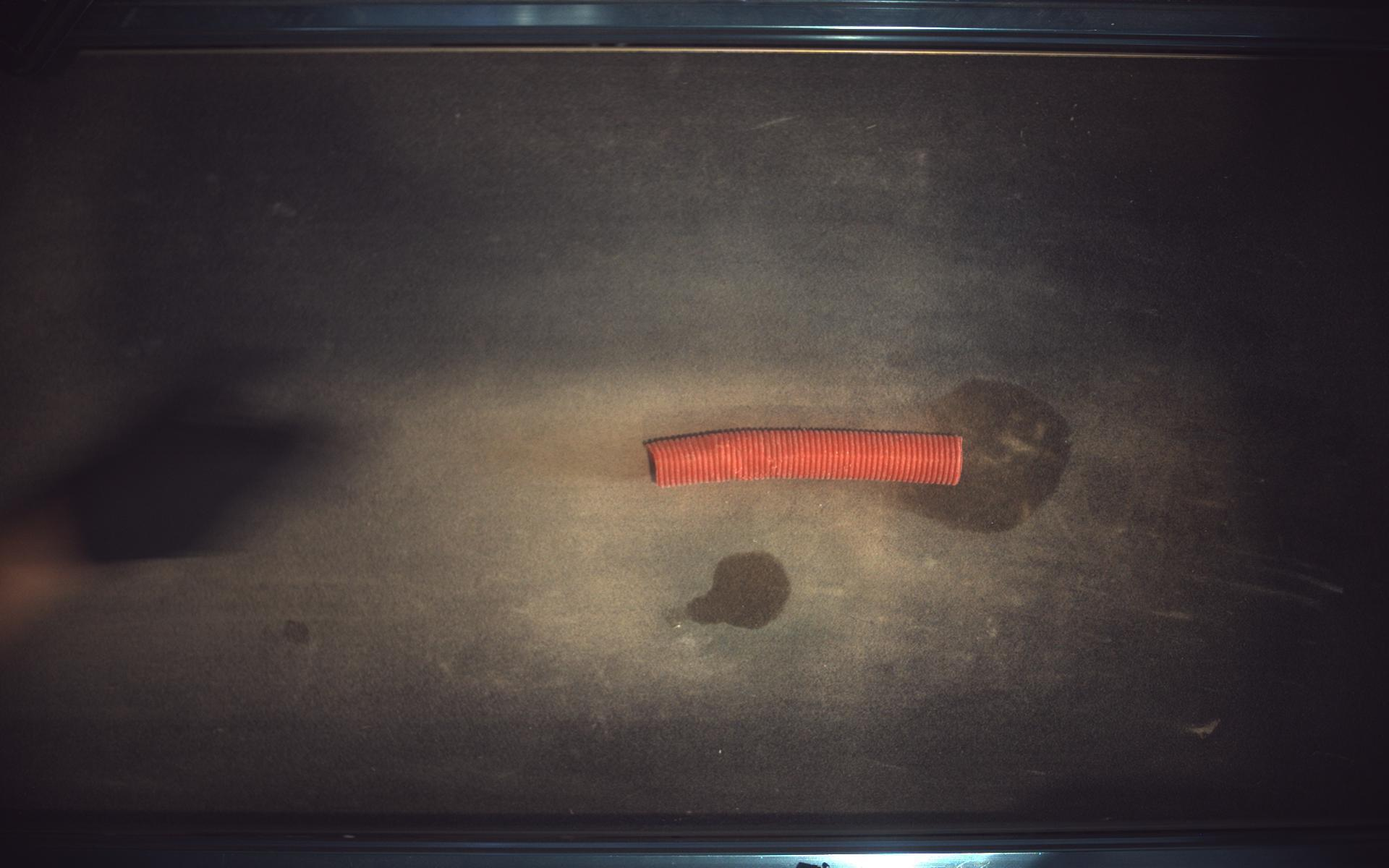pipes: (647, 429, 964, 488)
